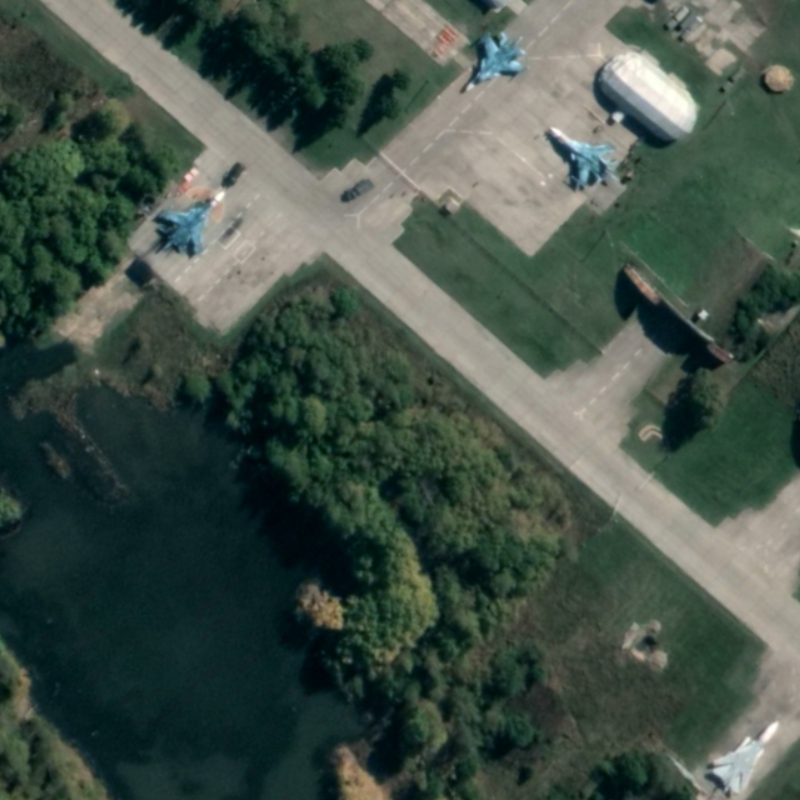A19: (154, 190, 229, 260), (546, 124, 622, 189), (463, 30, 531, 93)
A20: (710, 718, 781, 795)
